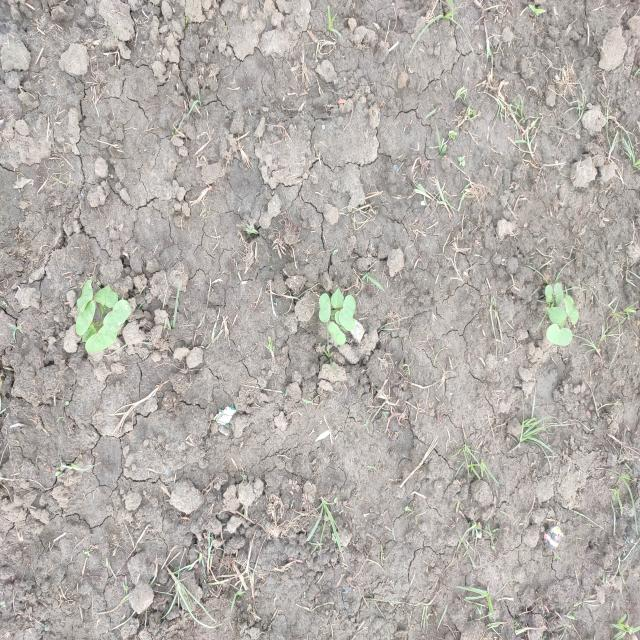seedling_s4: (103, 300, 131, 333), (85, 326, 118, 353), (75, 300, 96, 336), (546, 324, 573, 346), (94, 285, 118, 308), (339, 295, 356, 327), (77, 280, 93, 312), (335, 310, 355, 331), (565, 295, 579, 325), (328, 322, 346, 345), (318, 293, 331, 323), (547, 307, 567, 326), (82, 324, 96, 342), (331, 287, 343, 308), (554, 283, 564, 305), (545, 285, 553, 302)
